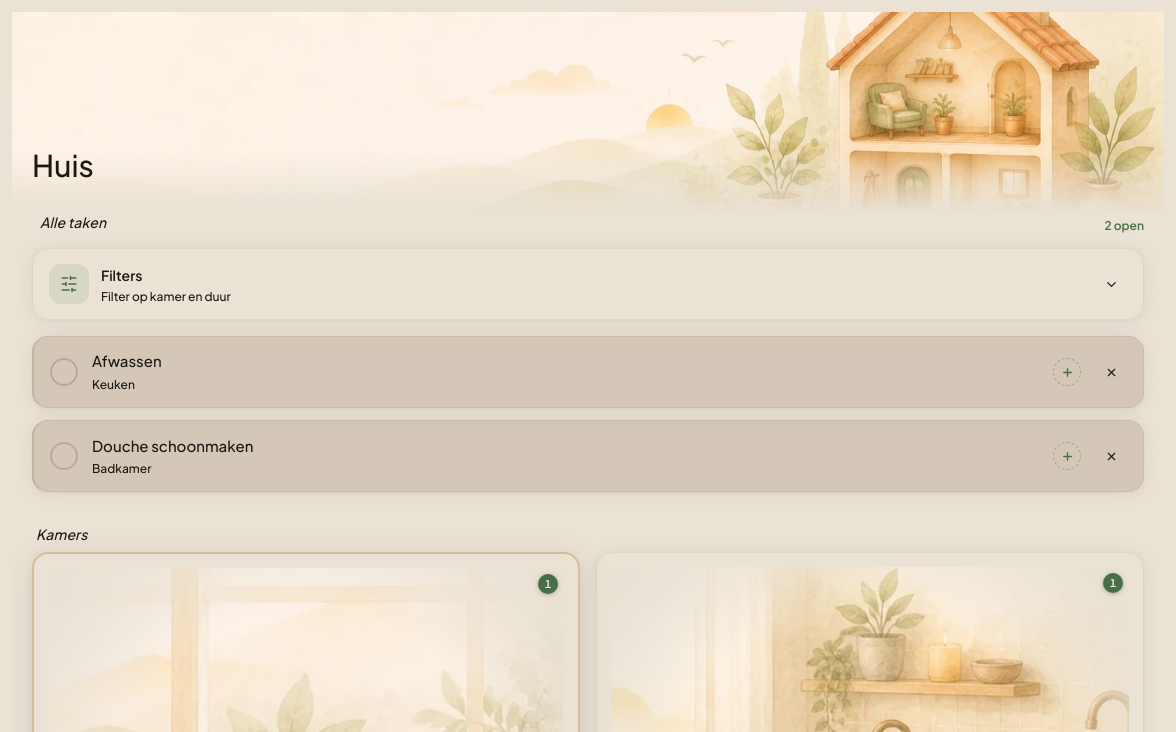
Scenario: HuisPage — list view › filters the open task list down to a single room
The width and height of the screenshot is (1176, 732).
Click the button "Filters Filter op kamer en duur": (69, 284) [33, 249, 1135, 319]
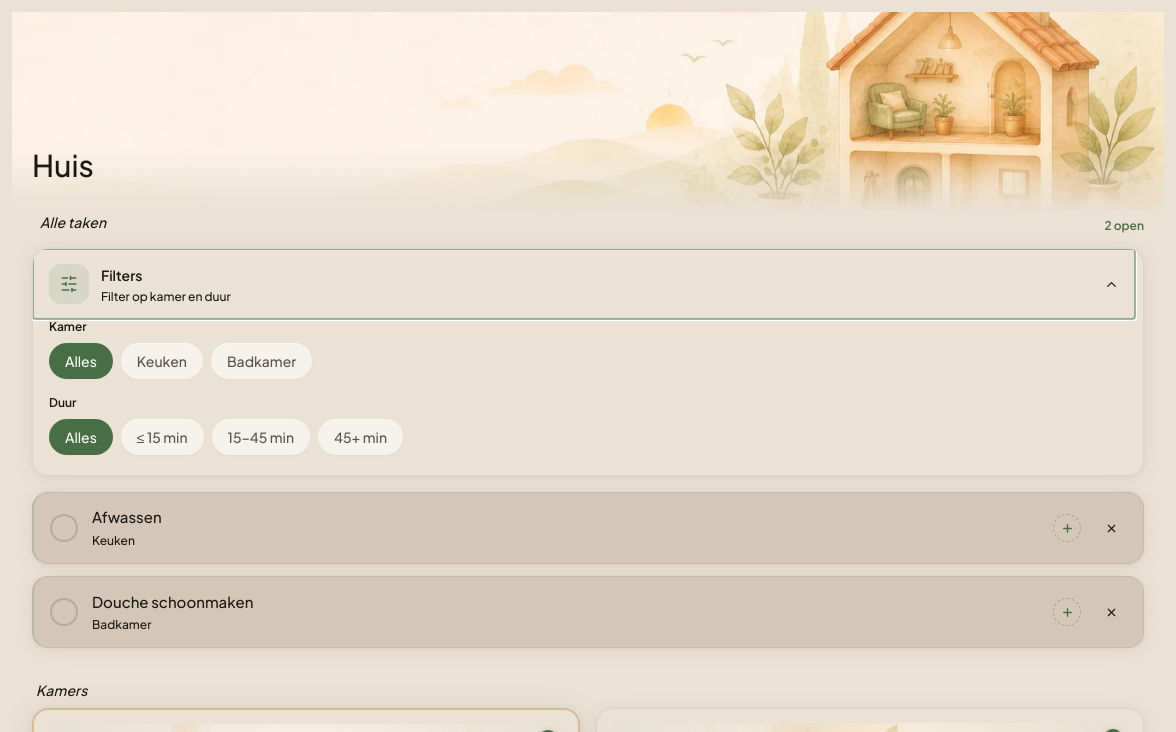
Click the button "Badkamer": (262, 361) [211, 343, 312, 379]
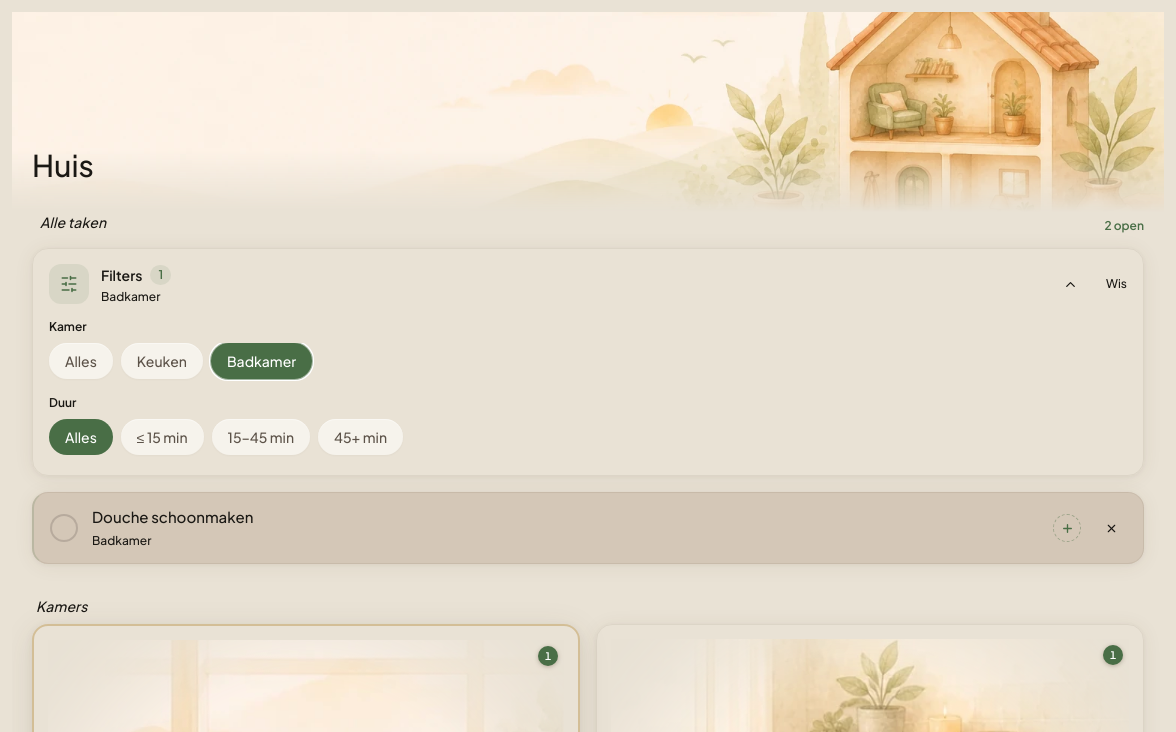
Expected: the text "Douche schoonmaken" is shown, [92, 507, 253, 526]
Now the button "Afwassen" is gone
